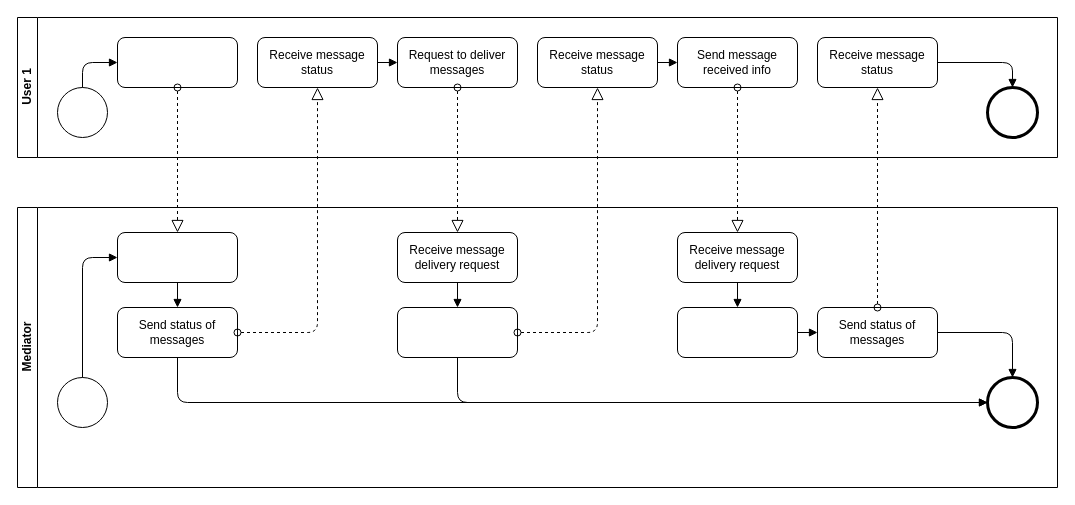
This 1075x505 diagram has some shape labels left out. The centre of each missing label's shape, as x and y in pixels:
"Delete received messages" belongs at point 737,332.
"Receive message status request" belongs at point 177,257.
"Request message status" belongs at point 177,62.
"Send messages" belongs at point 457,332.
